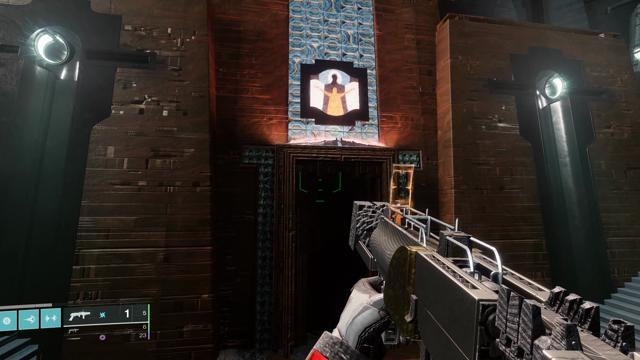worship: (310, 69, 360, 116)
